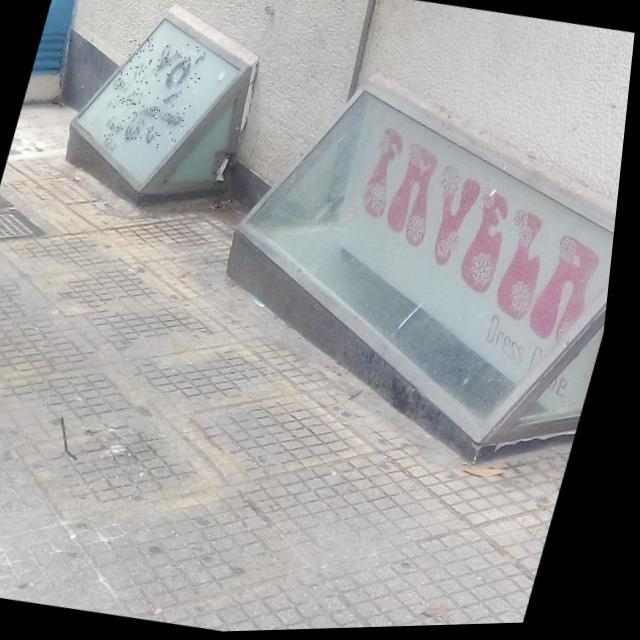-: (101, 34, 210, 154)
